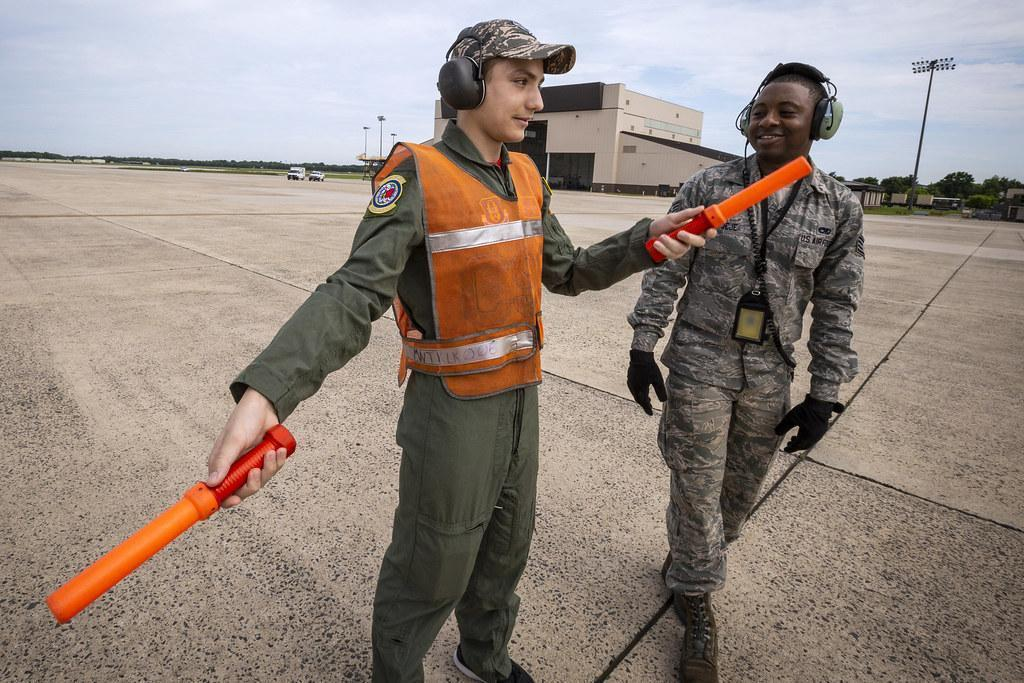Ear-protection: (627, 49, 912, 679)
Glass: (373, 138, 559, 403)
